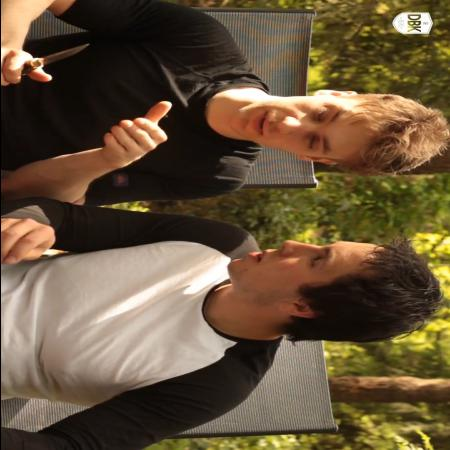long weapon: (0, 39, 99, 88)
